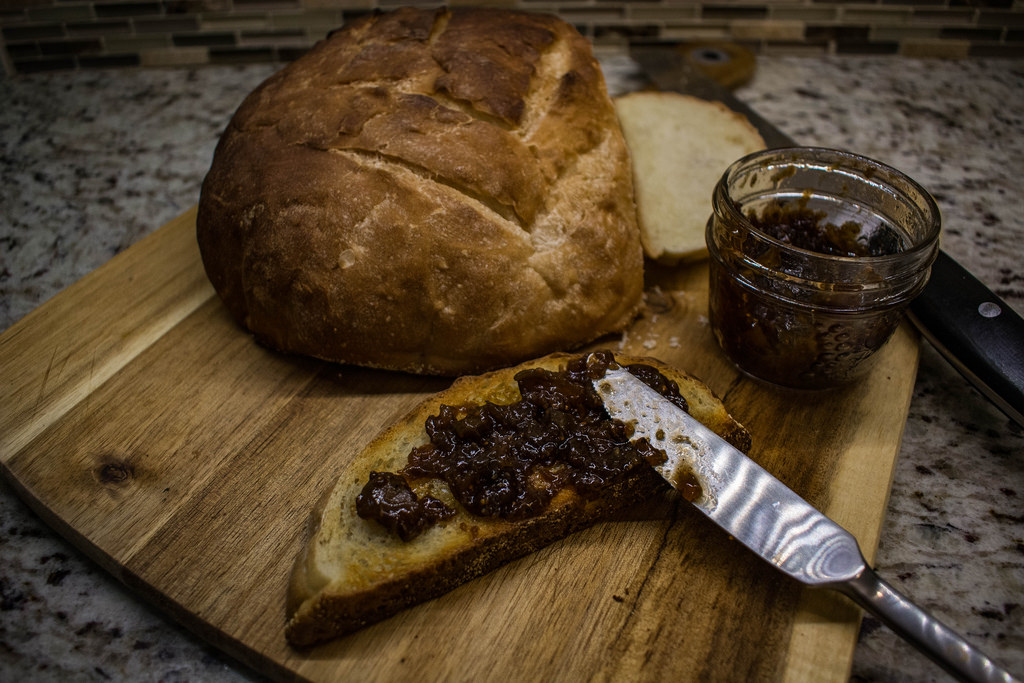slice of bread: (196, 9, 656, 376), (264, 334, 764, 639), (587, 76, 794, 265)
